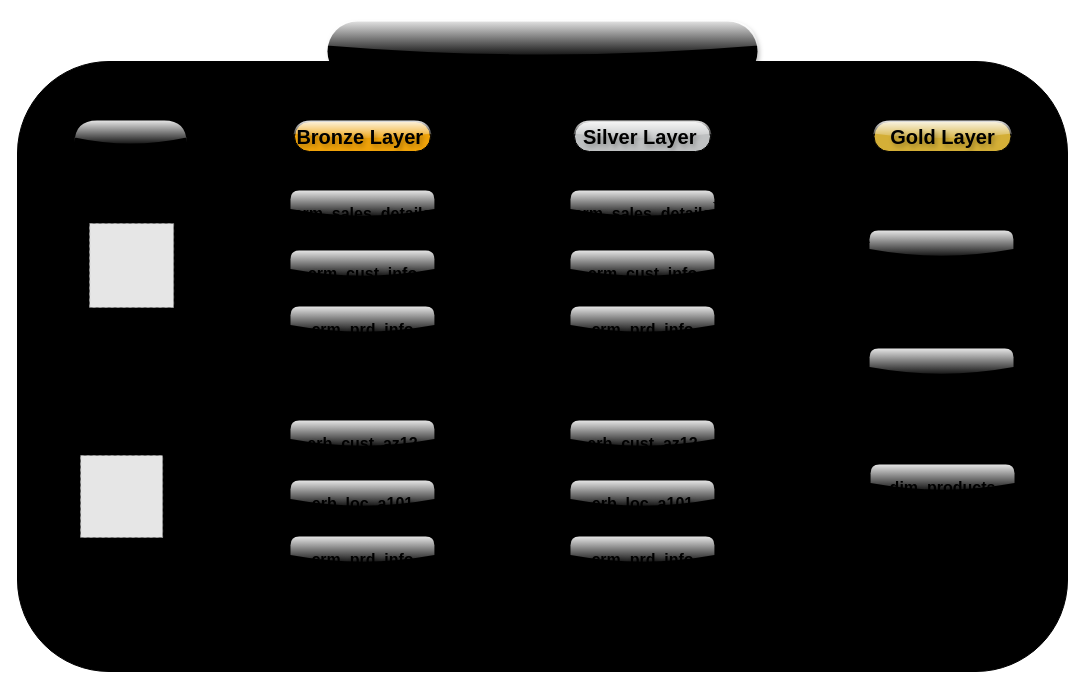
The diagram is 1085 pixels wide and 689 high, and some of its shapes have lost their labels. Grey dashed boxes stand in for pictures. Here are the shapes that lost their labels. From the top down, the centre of each, then its label:
[543,52]: Data Flow Diagram
[131,142]: Sources
[942,254]: fact_sales
[942,372]: dim_customers
